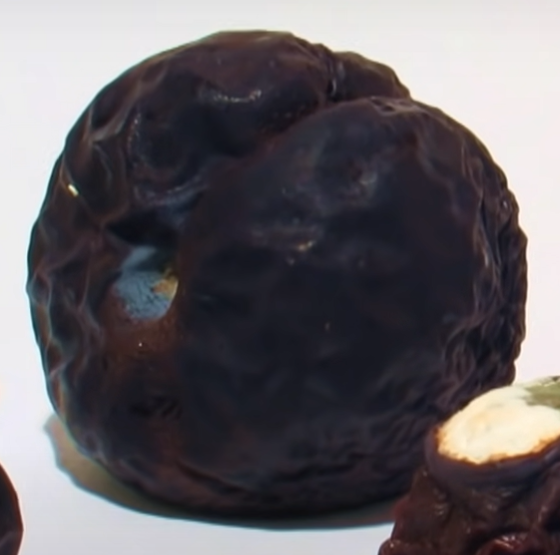plum_C: (27, 33, 530, 519)
